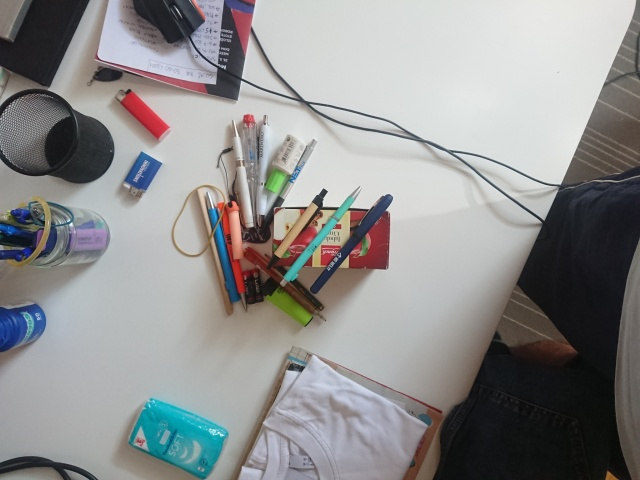Franck Apple Cinnamon Tea 60g: (270, 203, 392, 272)
